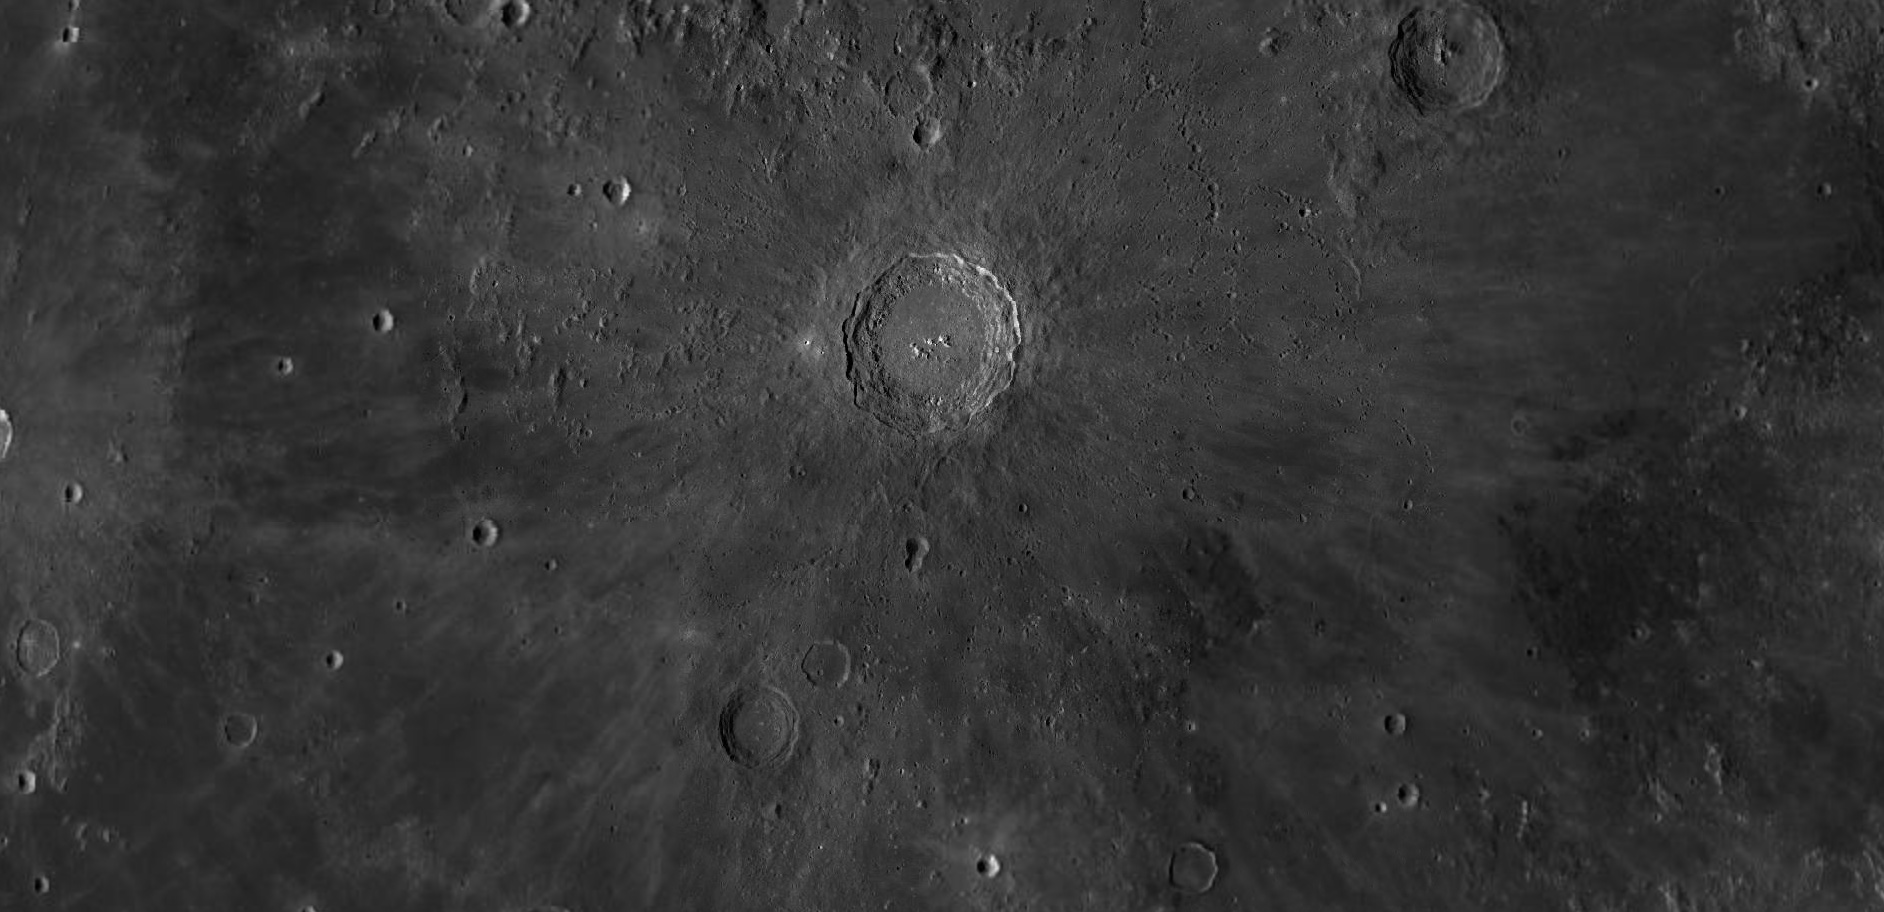crater: (716, 154, 1182, 500), (1260, 2, 1616, 254), (175, 682, 305, 813), (2, 588, 103, 729), (688, 676, 806, 789), (416, 493, 535, 582), (791, 615, 898, 704), (1145, 807, 1244, 902), (580, 144, 655, 248), (346, 284, 423, 363), (947, 833, 1025, 888)
